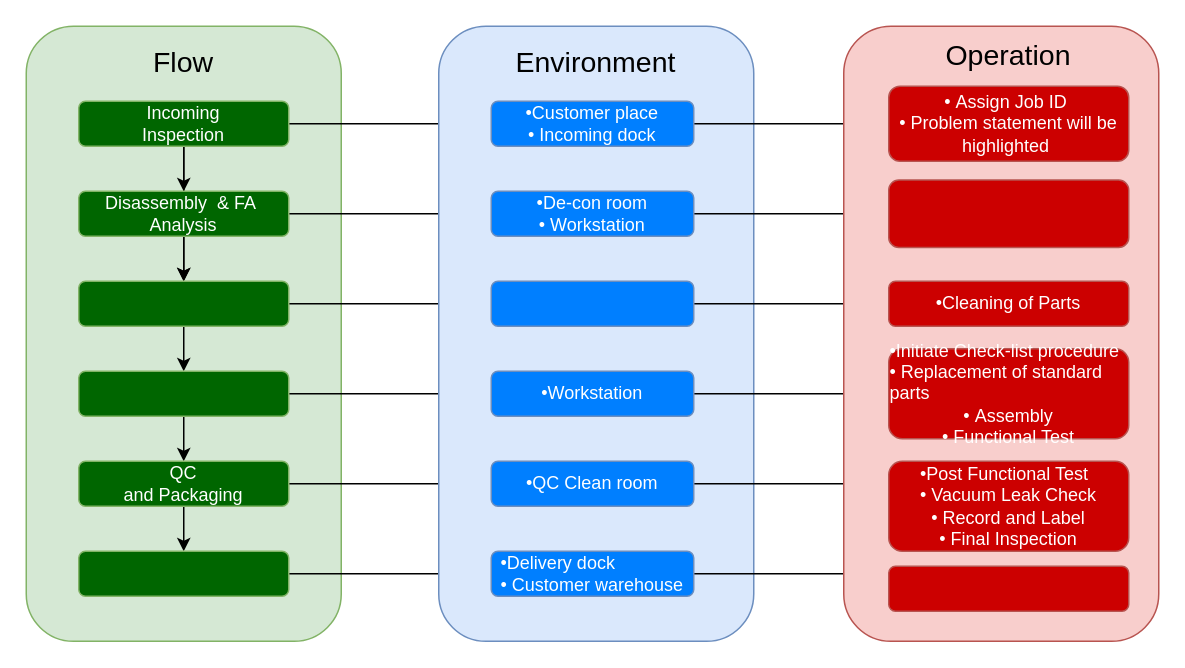
Image size: 1185x668. Some labels were removed from this diagram. The centre of each missing label's shape, as x and y in pixels:
Assembly and Testing: the point at 183,393
Cleaning: the point at 183,303
Goods delivery: the point at 183,573
• De-con room: the point at 592,303
• Delivery • Follow up service: the point at 1008,588
• Pre-Inspection & Functional Check • Generate FA report: the point at 1008,213
